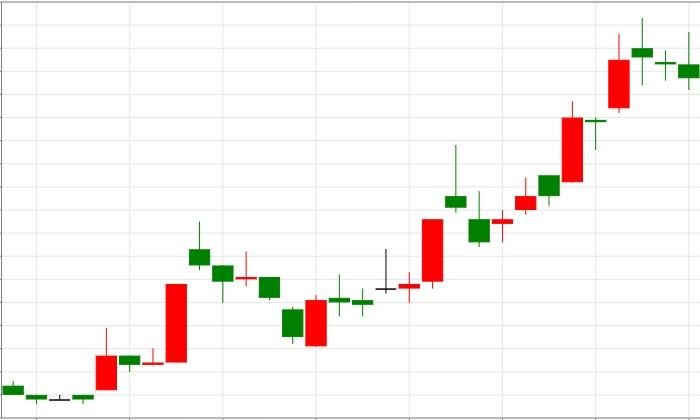bullish_engulfing_rise: (188, 221, 327, 347)
evening_star_fall: (305, 144, 491, 347)
